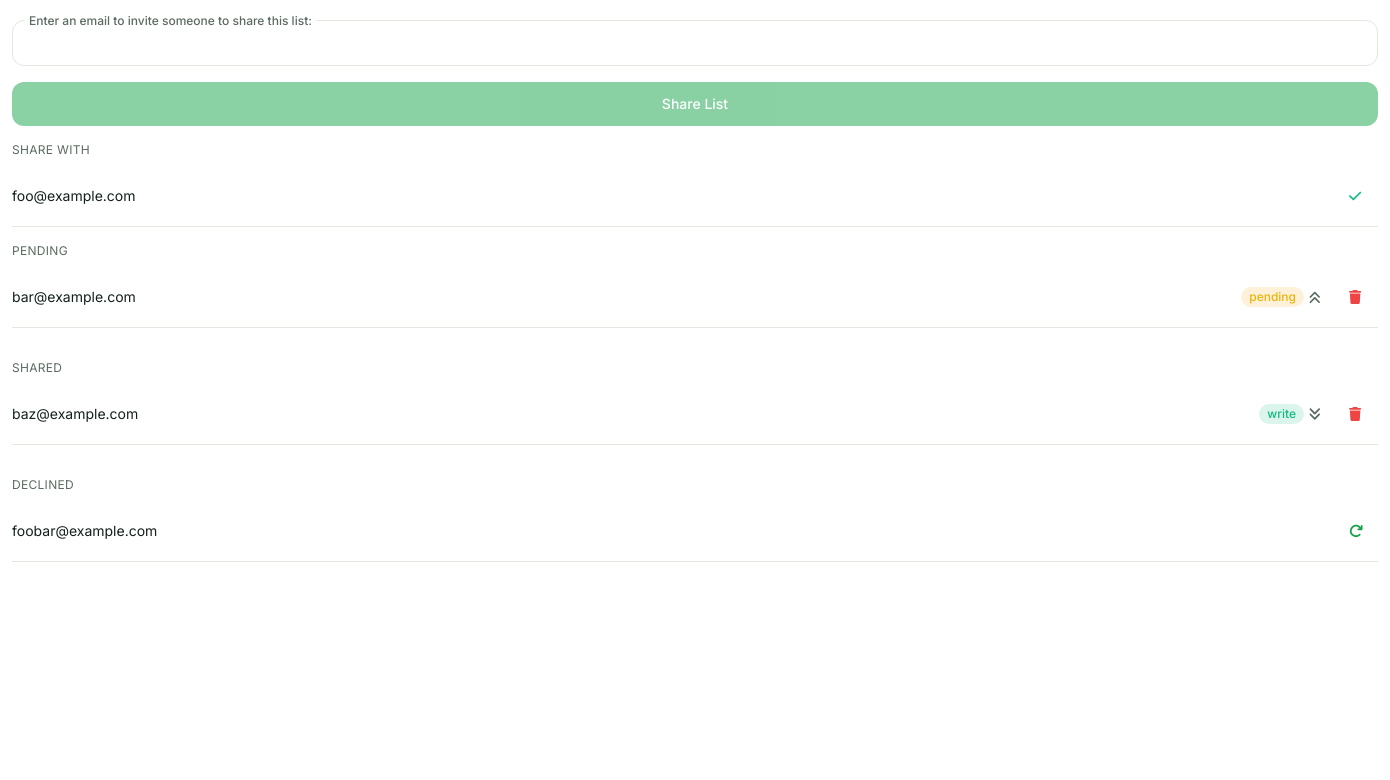
Test: ShareListForm › toggles permissions › toggles permissions in accepted
Click the button with test id "toggle-permissions" showing "write" at (1291, 414), box [1259,404,1322,424]
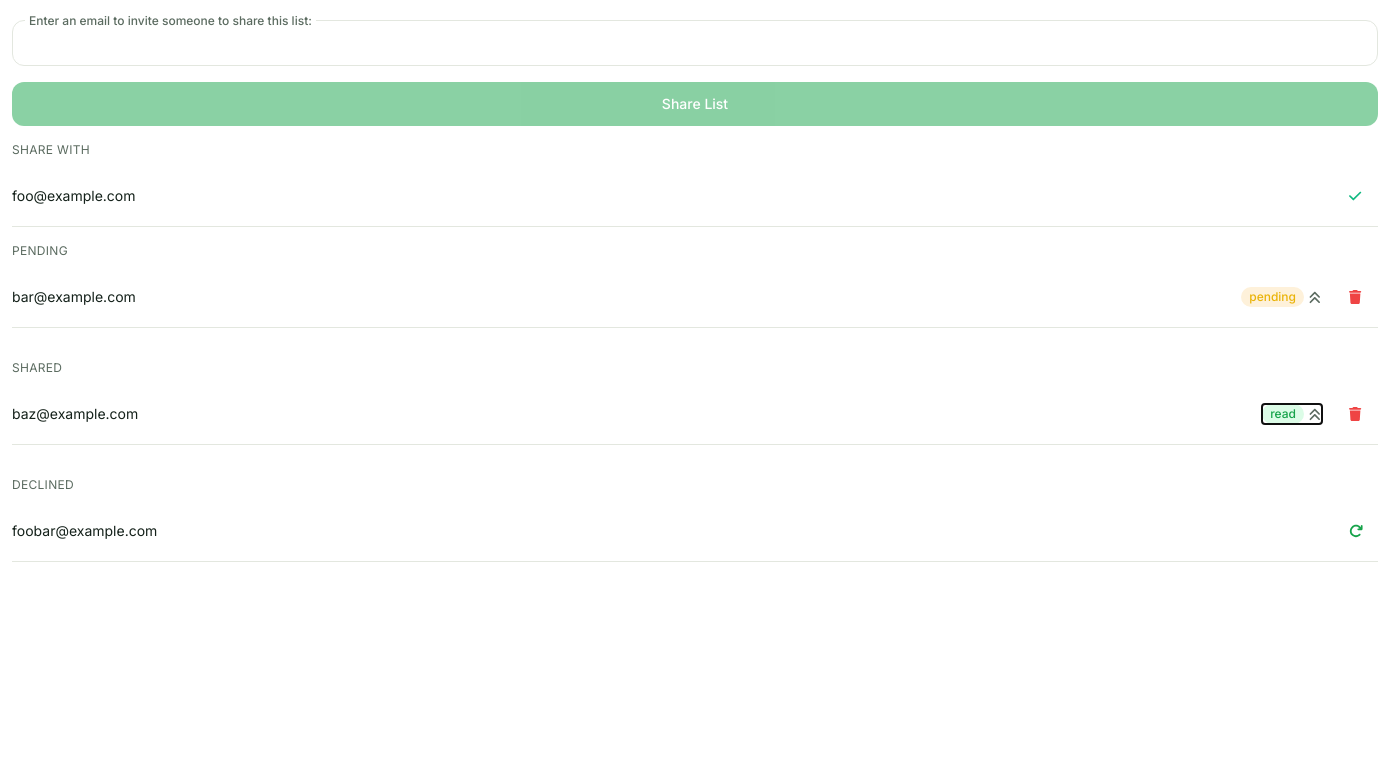
Now the list item with test id "accepted-user-id3" shows "read", box [1262,404,1322,424]
